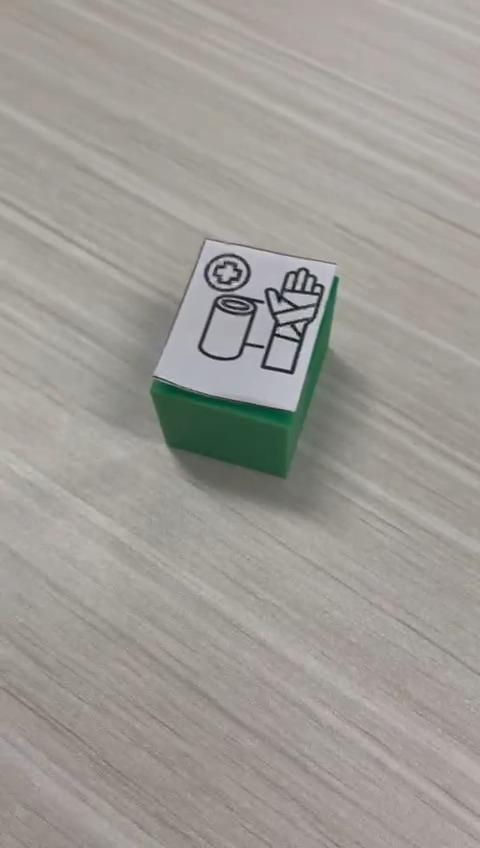Bandages: (149, 237, 339, 478)
